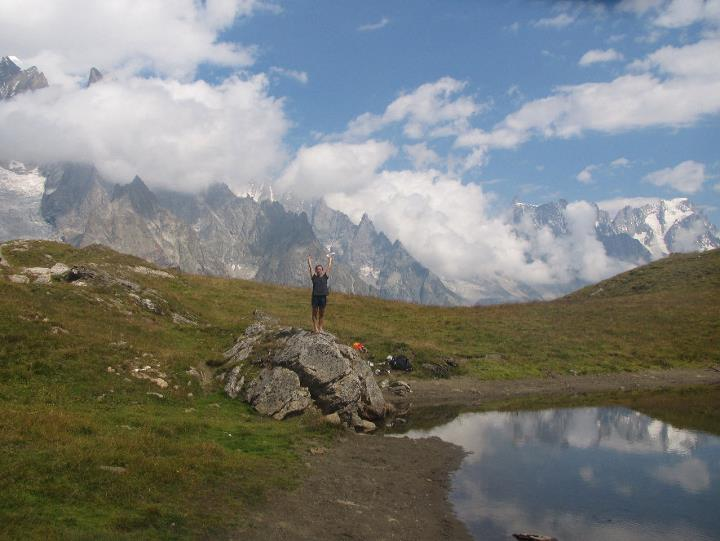person: (304, 247, 343, 339)
sky: (126, 4, 720, 196)
water: (362, 370, 720, 534)
